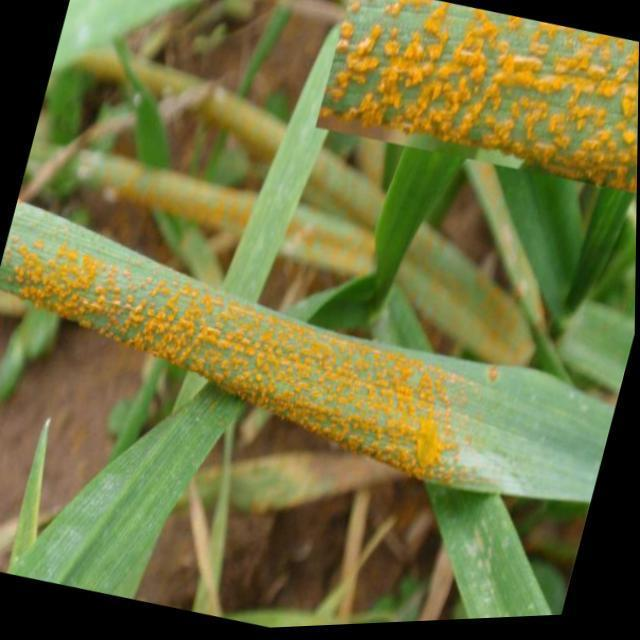Yellow Rust: (0, 200, 614, 622), (313, 0, 638, 200)
